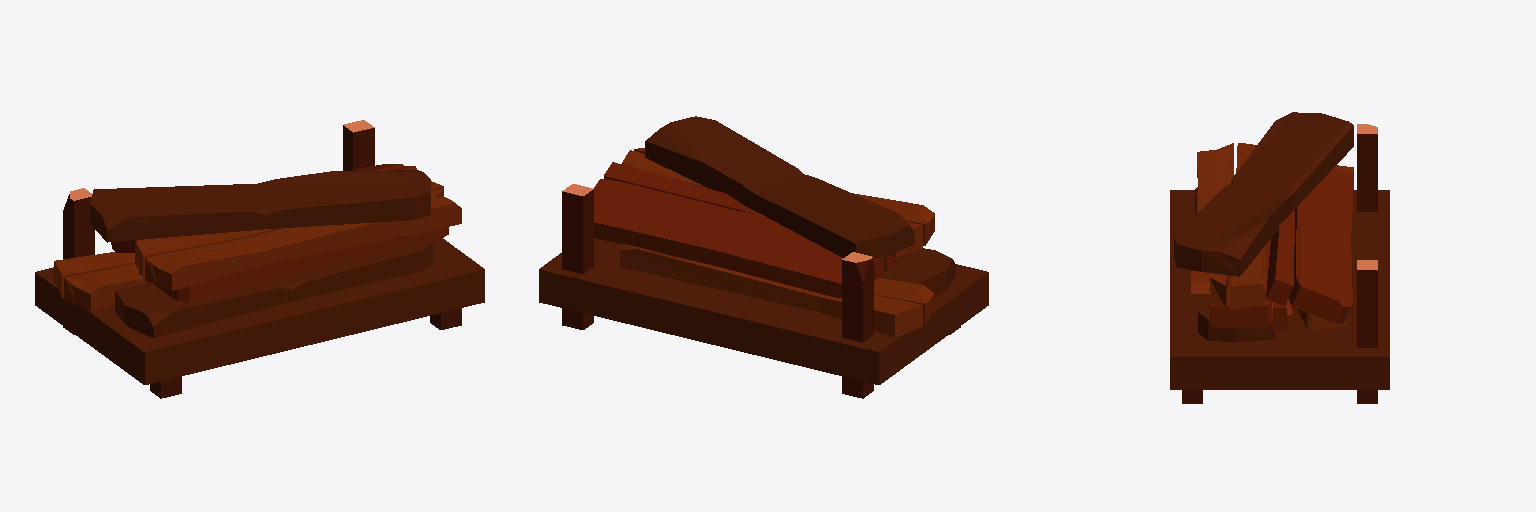
File: wood_stand_pile.obj
The picture shows the model from 3 angles: view 1: azimuth 30°, elevation 25°; view 2: azimuth 150°, elevation 25°; view 3: azimuth 270°, elevation 25°; orthographic projection.
Parts seen in each view (by area): view 1: Cube.023, Cube.013, Cube.014; view 2: Cube.023, Cube.013, Cube.014; view 3: Cube.023, Cube.013, Cube.014.
Part boxes in pixels (left/top/right/bottom): Cube.023: left=54, top=164, right=461, bottom=337; Cube.013: left=35, top=238, right=484, bottom=384; Cube.014: left=63, top=120, right=461, bottom=398; Cube.023: left=594, top=116, right=955, bottom=337; Cube.013: left=539, top=238, right=988, bottom=384; Cube.014: left=562, top=184, right=960, bottom=398; Cube.023: left=1174, top=112, right=1353, bottom=342; Cube.013: left=1170, top=190, right=1389, bottom=389; Cube.014: left=1182, top=124, right=1377, bottom=403.
Size of the model in its own units: 3.67 by 1.45 by 2.